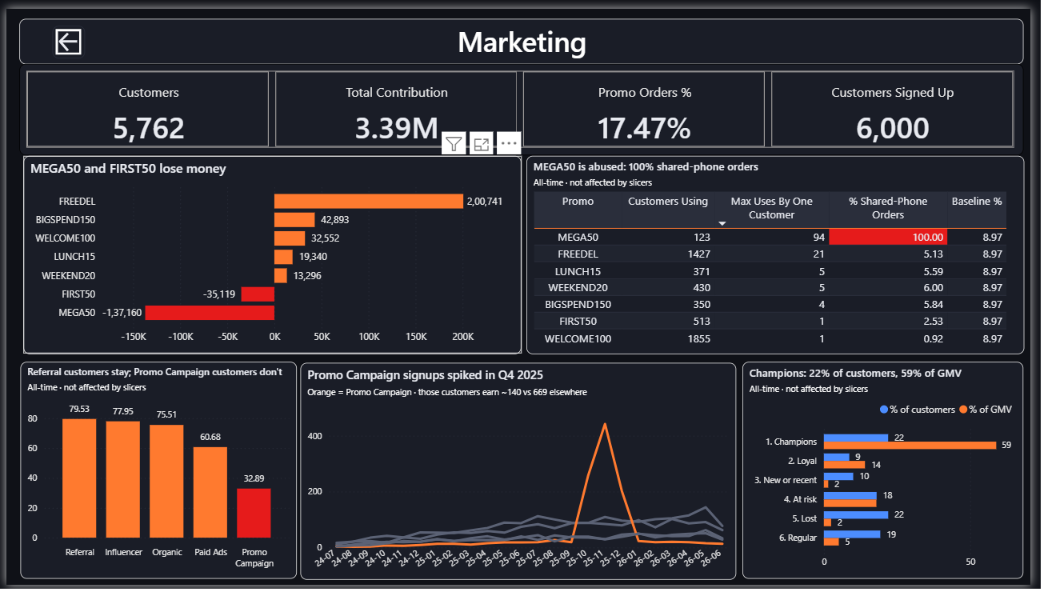

The dashboard page shown, as its layout file describes it:
{"tool":"powerbi","page":{"name":"Marketing","canvas":[1280,720],"ordinal":3},"visuals":[{"type":"textbox","title":"Marketing","box":[16.2,12.1,1254.9,56.7],"z":0},{"type":"cardVisual","fields":{"Data":["measures_table.Customers","measures_table.Total Contribution","measures_table.Promo Orders %","measures_table.Customers Signed Up"]},"box":[16.2,68.8,1254.9,114.7],"z":1000},{"type":"clusteredBarChart","title":"MEGA50 and FIRST50 lose money","fields":{"Category":["dw dim_promo.promo_code"],"Y":["measures_table.Total Contribution"]},"box":[21.6,183.5,622.1,248.3],"z":2000},{"type":"tableEx","title":"MEGA50 is abused: 100% shared-phone orders","fields":{"Values":["rpt vw_promo_abuse_check.promo_code","rpt vw_promo_abuse_check.customers_using","rpt vw_promo_abuse_check.max_uses_by_one_customer","rpt vw_promo_abuse_check.pct_orders_shared_phone","rpt vw_promo_abuse_check.baseline_pct_shared_phone"]},"box":[650.4,183.5,622.1,248.3],"z":3000},{"type":"clusteredColumnChart","title":"Referral customers stay; Promo Campaign customers don''t","fields":{"Category":["rpt vw_channel_retention.signup_channel"],"Y":["Avg(rpt vw_channel_retention.repeat_customer_pct)"]},"box":[17.5,441.2,345.4,271.2],"z":4000},{"type":"lineChart","title":"Promo Campaign signups spiked in Q4 2025","fields":{"Category":["dw dim_customer.Signup Month"],"Y":["measures_table.Customers Signed Up"],"Series":["dw dim_customer.signup_channel"]},"box":[367,442.6,545.1,271.2],"z":5000},{"type":"clusteredBarChart","title":"Champions: 22% of customers, 59% of GMV","fields":{"Category":["rpt vw_rfm_segments.segment"],"Y":["Avg(rpt vw_rfm_segments.pct_of_customers)","Avg(rpt vw_rfm_segments.pct_of_gmv)"]},"box":[920.3,441.2,350.8,271.2],"z":6000},{"type":"actionButton","box":[58,21.6,40.5,40.5],"z":6001}]}

Visuals, with their boxes in screenshot pixels (x1, y1, x2, y2), scaled from the page's 1280x720 canvas onto the 1041x589 screenshot:
"Marketing" textbox: region(13, 10, 1034, 56)
cardVisual - measures_table.Customers x measures_table.Total Contribution: region(13, 56, 1034, 150)
"MEGA50 and FIRST50 lose money" clusteredBarChart: region(18, 150, 524, 353)
"MEGA50 is abused: 100% shared-phone orders" tableEx: region(529, 150, 1035, 353)
"Referral customers stay; Promo Campaign customers don''t" clusteredColumnChart: region(14, 361, 295, 583)
"Promo Campaign signups spiked in Q4 2025" lineChart: region(298, 362, 742, 584)
"Champions: 22% of customers, 59% of GMV" clusteredBarChart: region(748, 361, 1034, 583)
actionButton: region(47, 18, 80, 51)
